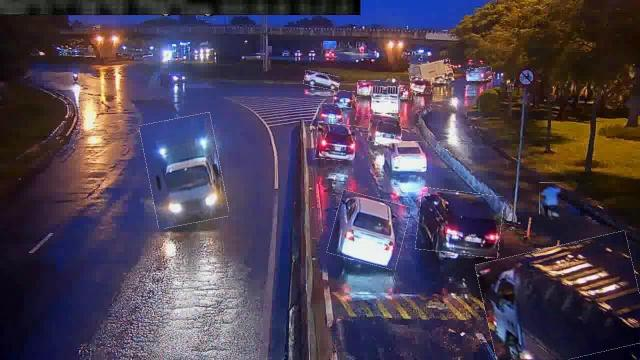Bike: (540, 183, 564, 217)
Car: (330, 194, 408, 266), (418, 190, 502, 256), (316, 124, 356, 160), (381, 141, 427, 171), (368, 115, 402, 143), (304, 72, 340, 88), (358, 80, 388, 98), (318, 103, 344, 122), (334, 90, 356, 108), (411, 77, 433, 93), (466, 68, 492, 80)
Truck: (480, 239, 640, 360), (143, 115, 224, 226), (409, 61, 453, 85)
